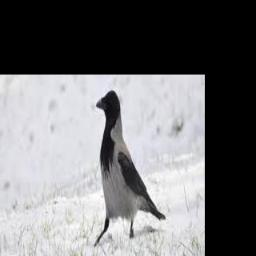Crow: (95, 89, 166, 246)
